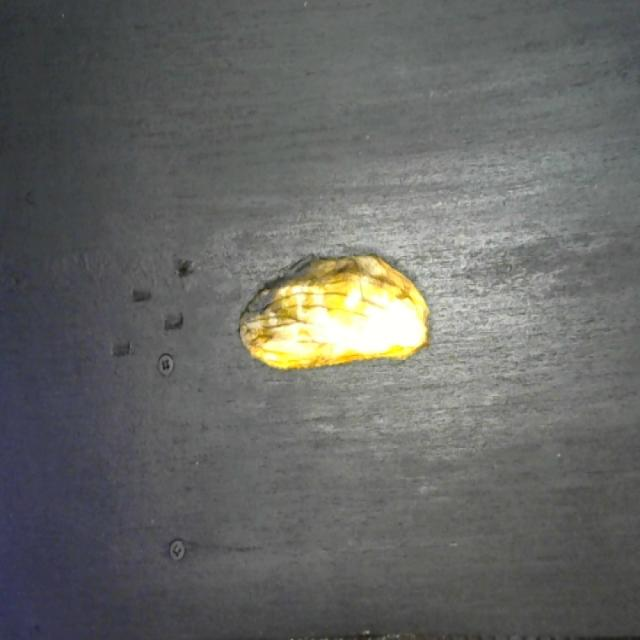biodegradable: (233, 245, 434, 378)
